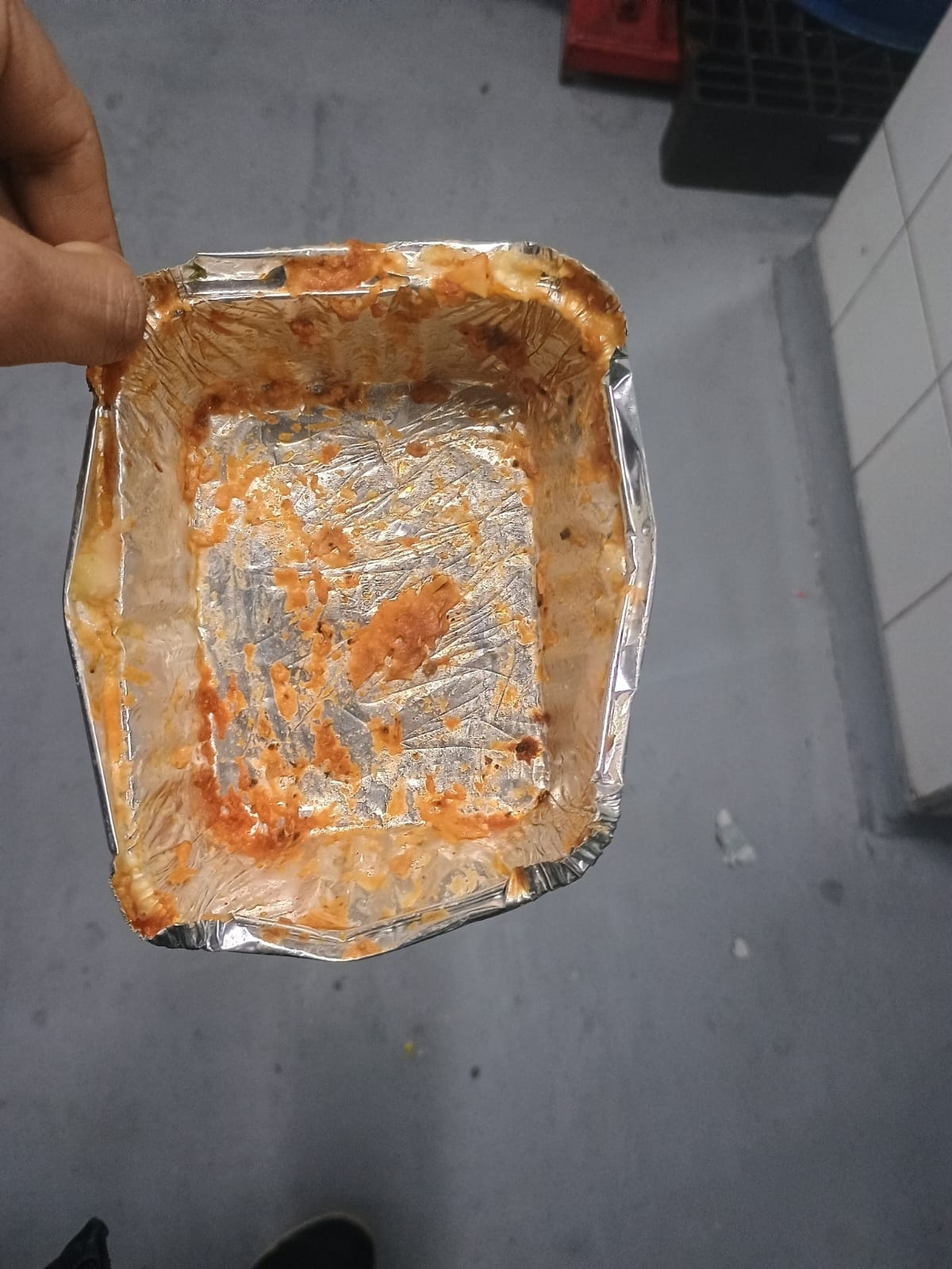Ordinario: (64, 239, 660, 966)
